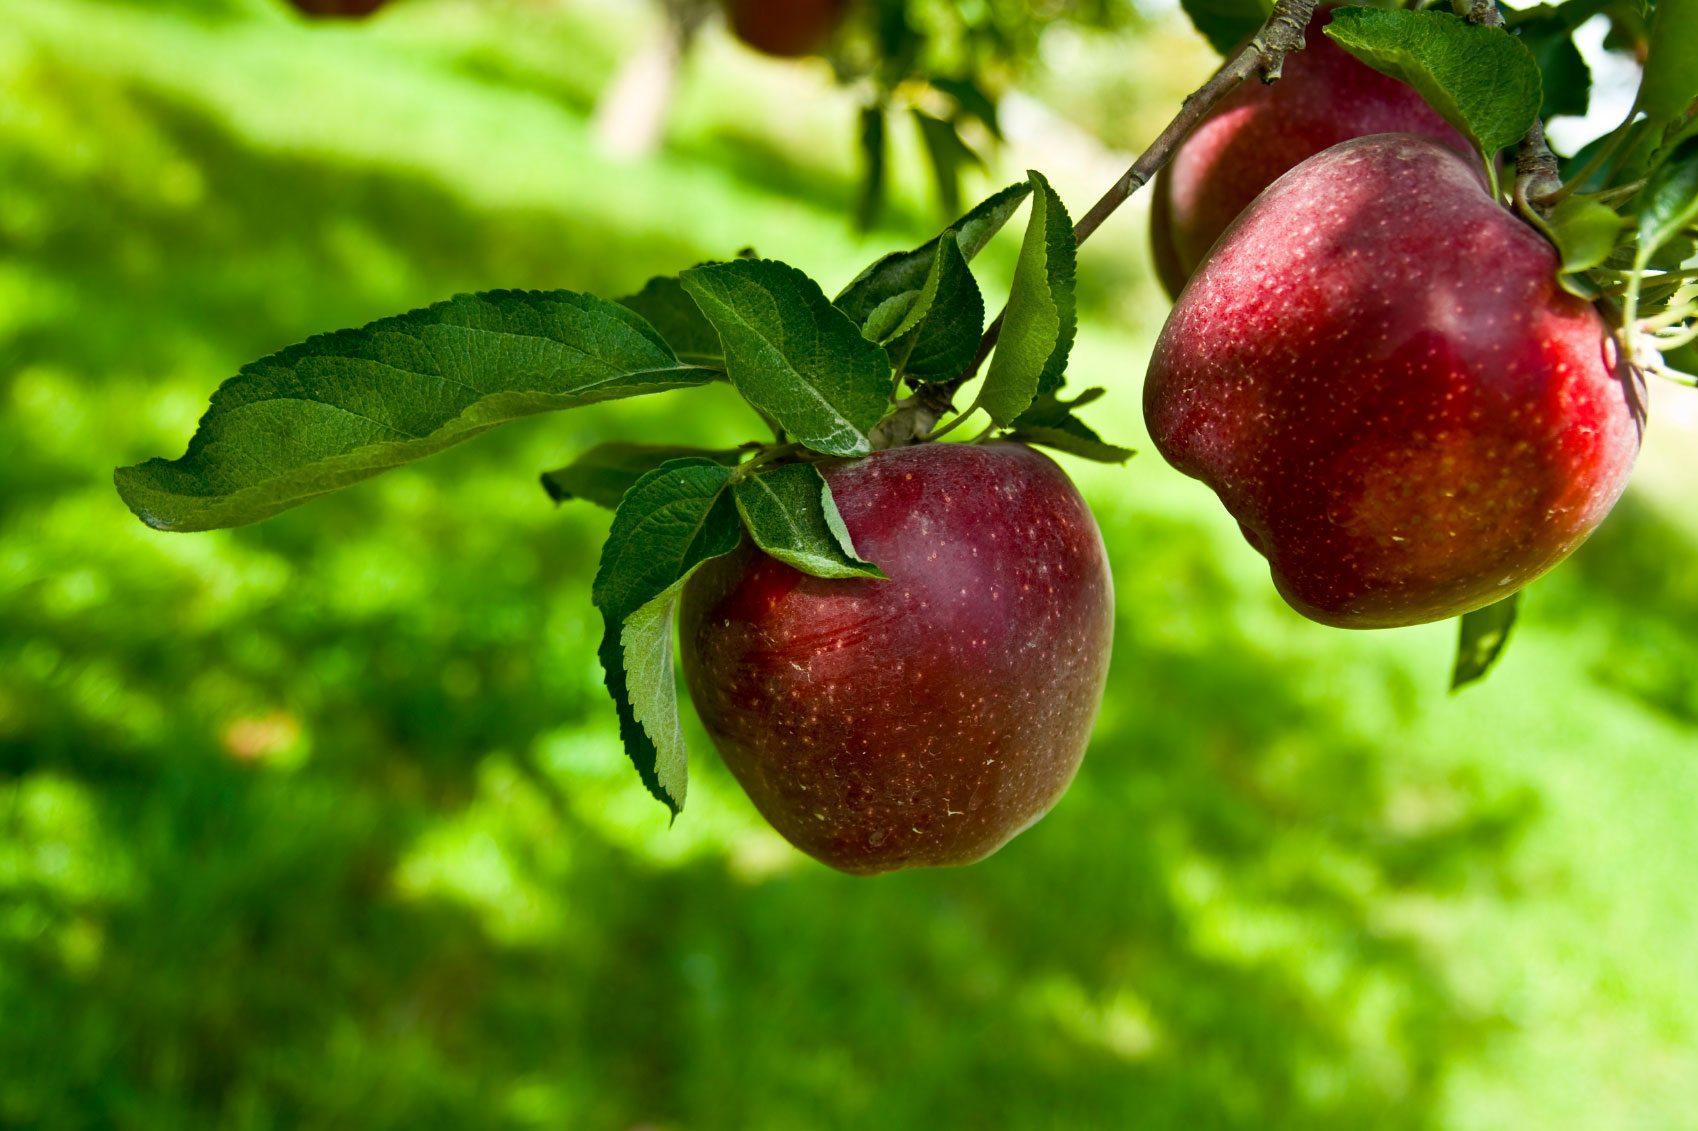apple: (1132, 121, 1636, 644), (673, 441, 1120, 884)
